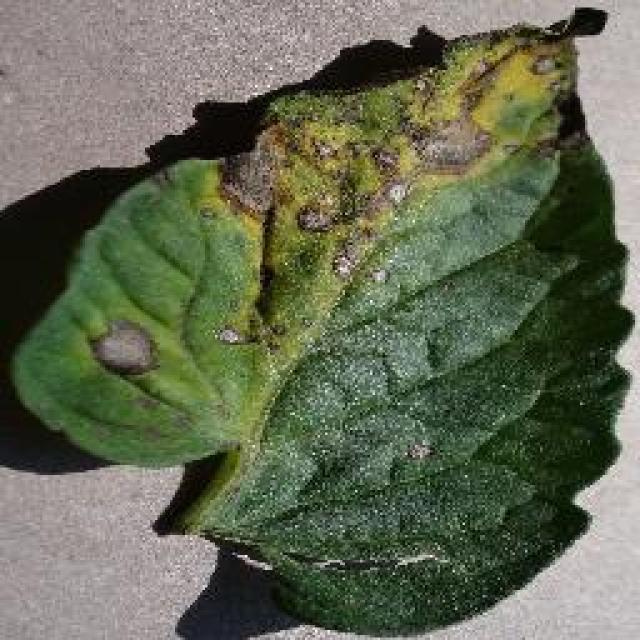Early Blight: (17, 7, 634, 640)
